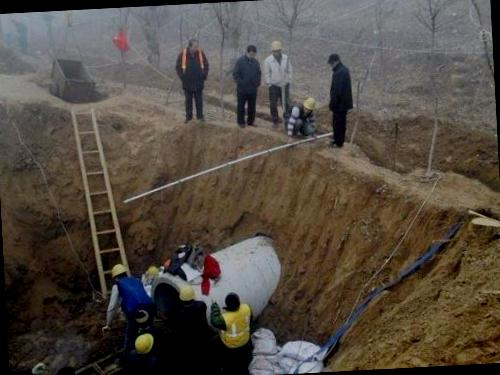no_helmet: (132, 304, 154, 330), (222, 290, 244, 312), (327, 47, 344, 70), (184, 36, 203, 54), (246, 42, 260, 61)
